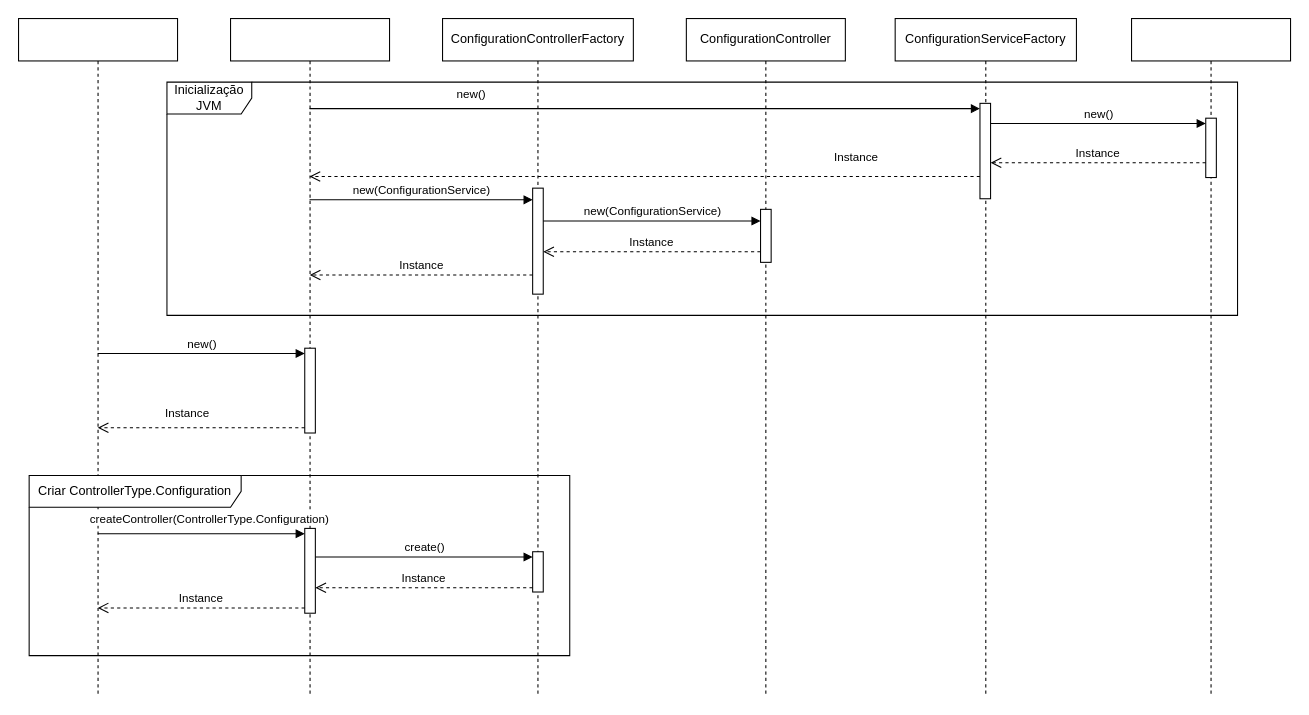
Some shapes in this 1309 by 715 pixel diagram are drawn without their labels. Here are the shapes that lost their labels. From the top down, the box of each, then its label:
(17, 17, 178, 697): ActivityProvider.main
(229, 17, 390, 697): AbstractControllerFactory
(1130, 17, 1291, 697): ConfigurationServiceImpl
